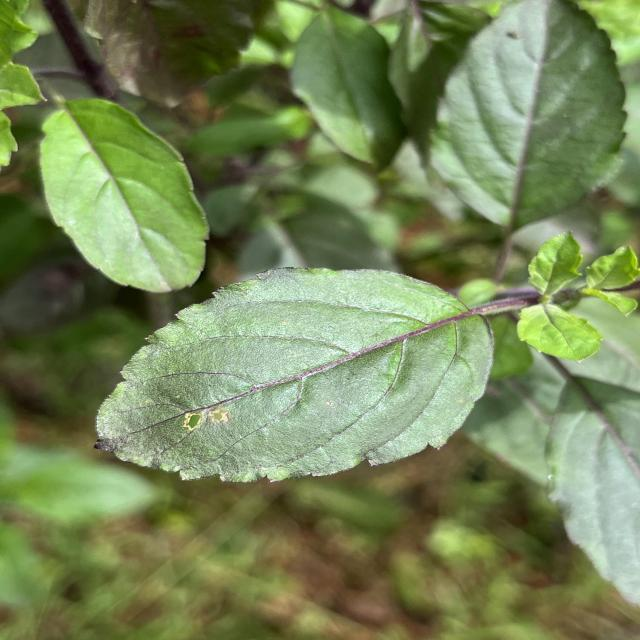Ocimum tenuiflorum: (95, 266, 499, 486)
